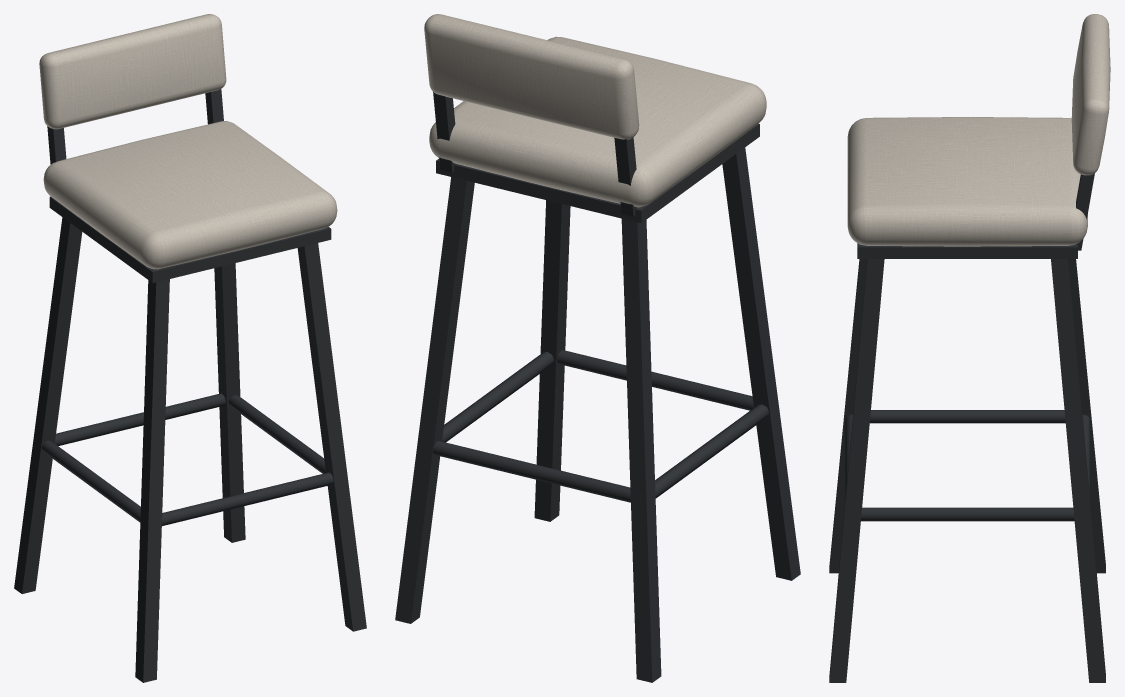
File: stool.glb
The picture shows the model from 3 angles, left to right: view 1: azimuth 30°, elevation 25°; view 2: azimuth 150°, elevation 25°; view 3: azimuth 270°, elevation 25°; orthographic projection. The views are drawn at different scales.
Parts seen in each view (by area): view 1: frame.007, fabric.002; view 2: frame.007, fabric.002; view 3: fabric.002, frame.007.
Boxes of the visible parts, left/top/right/bottom form: frame.007: left=14, top=89, right=366, bottom=682; fabric.002: left=39, top=14, right=337, bottom=269; frame.007: left=395, top=92, right=800, bottom=682; fabric.002: left=424, top=14, right=766, bottom=207; fabric.002: left=847, top=14, right=1110, bottom=246; frame.007: left=829, top=173, right=1105, bottom=682.
Bounding box in the file's own units: 0.426 × 0.9645 × 0.4329.
2 materials, 1 textured.
